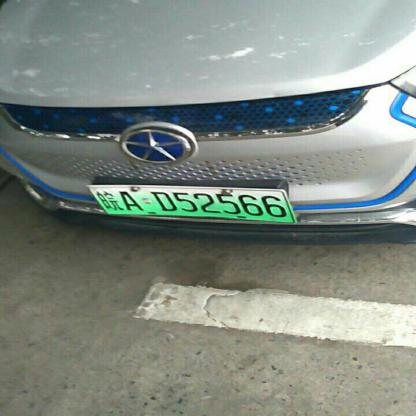lp: (86, 185, 296, 222)
